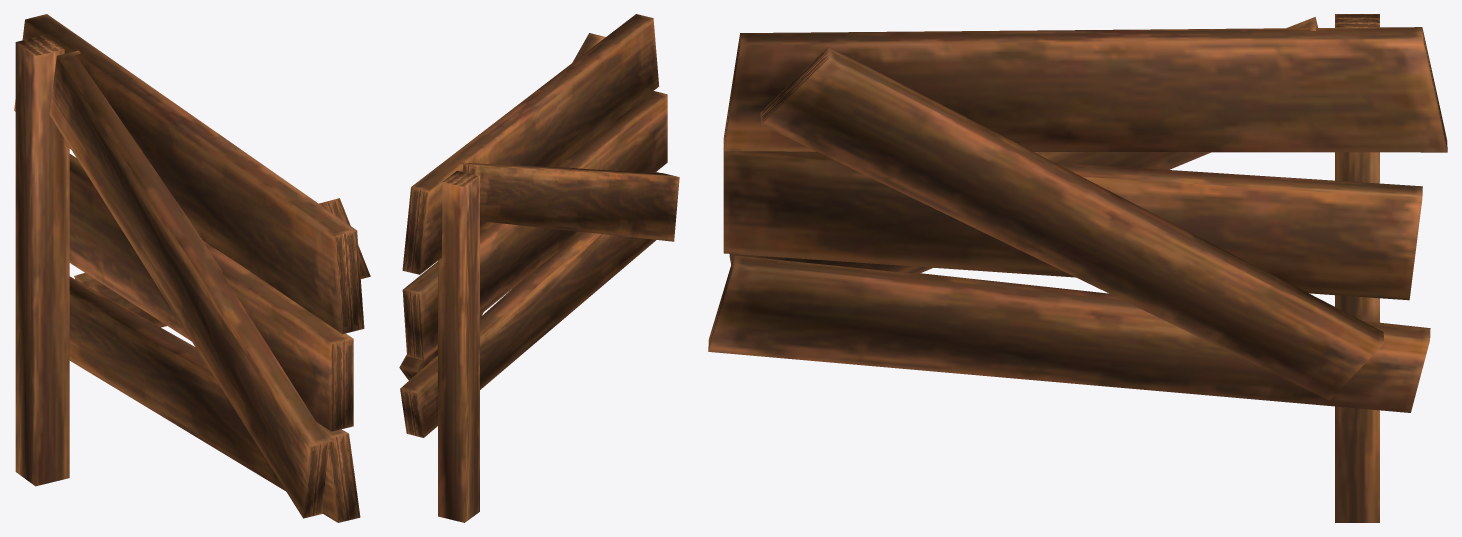
Rendered from TRACKGATECLOCKWISE.fbx.
3 renders of one model, left to right at view 1: azimuth 30°, elevation 25°; view 2: azimuth 150°, elevation 25°; view 3: azimuth 270°, elevation 25°, orthographic. The views are drawn at different scales.
Parts seen in each view (by area): view 1: TRACKGATECLOCKWISE; view 2: TRACKGATECLOCKWISE; view 3: TRACKGATECLOCKWISE.
Boxes of the visible parts, box(x1,y1,x2,y2) form: TRACKGATECLOCKWISE: box(14, 14, 370, 522); TRACKGATECLOCKWISE: box(399, 14, 679, 522); TRACKGATECLOCKWISE: box(708, 14, 1447, 522).
Size of the model in its own units: 3004 by 14906 by 20206.
Materials: 2 (2 with a texture image).
